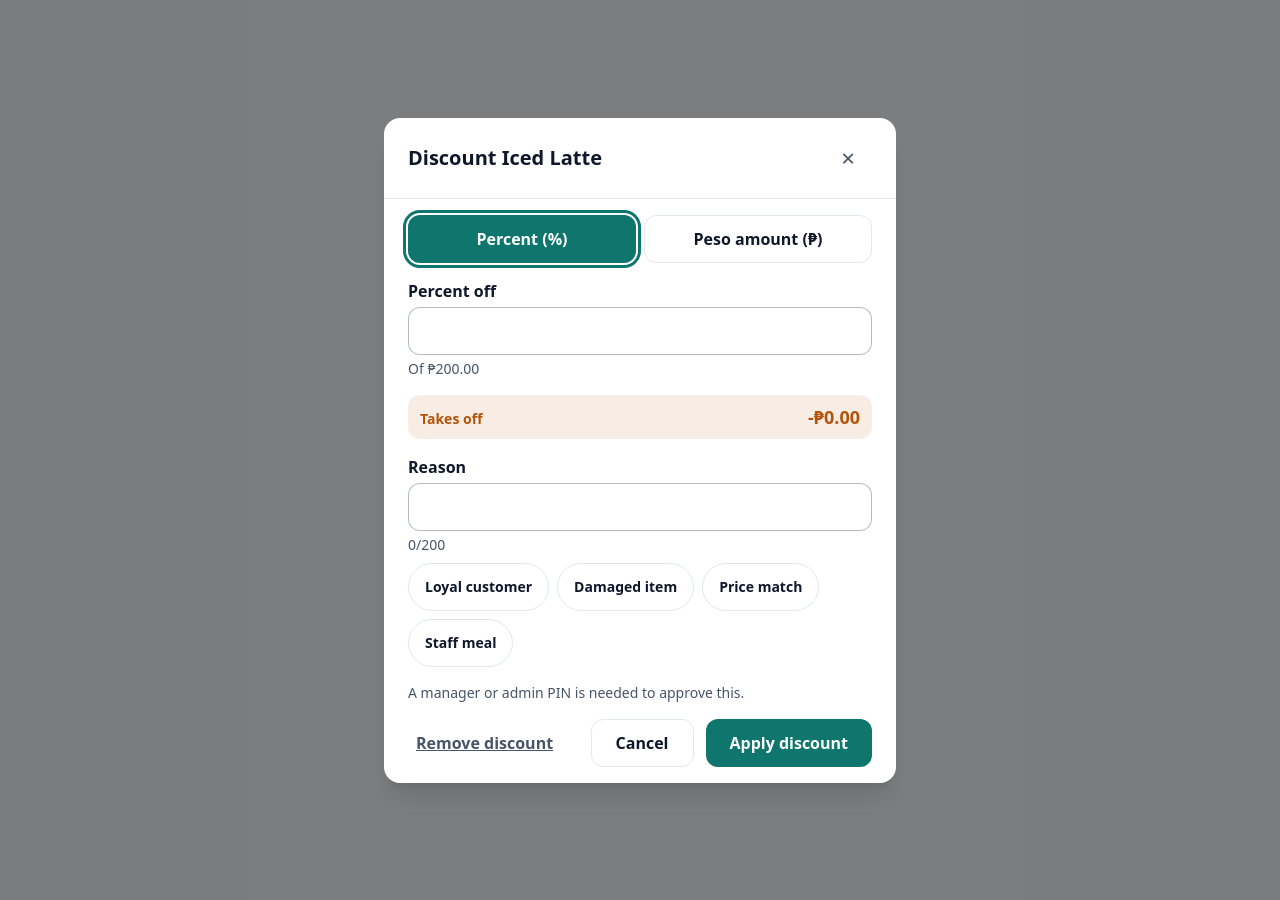
DiscountDialog › refuses a percent over 100
Type "120" into the field labelled "Percent off" at [640, 330], box [408,306,872,354]
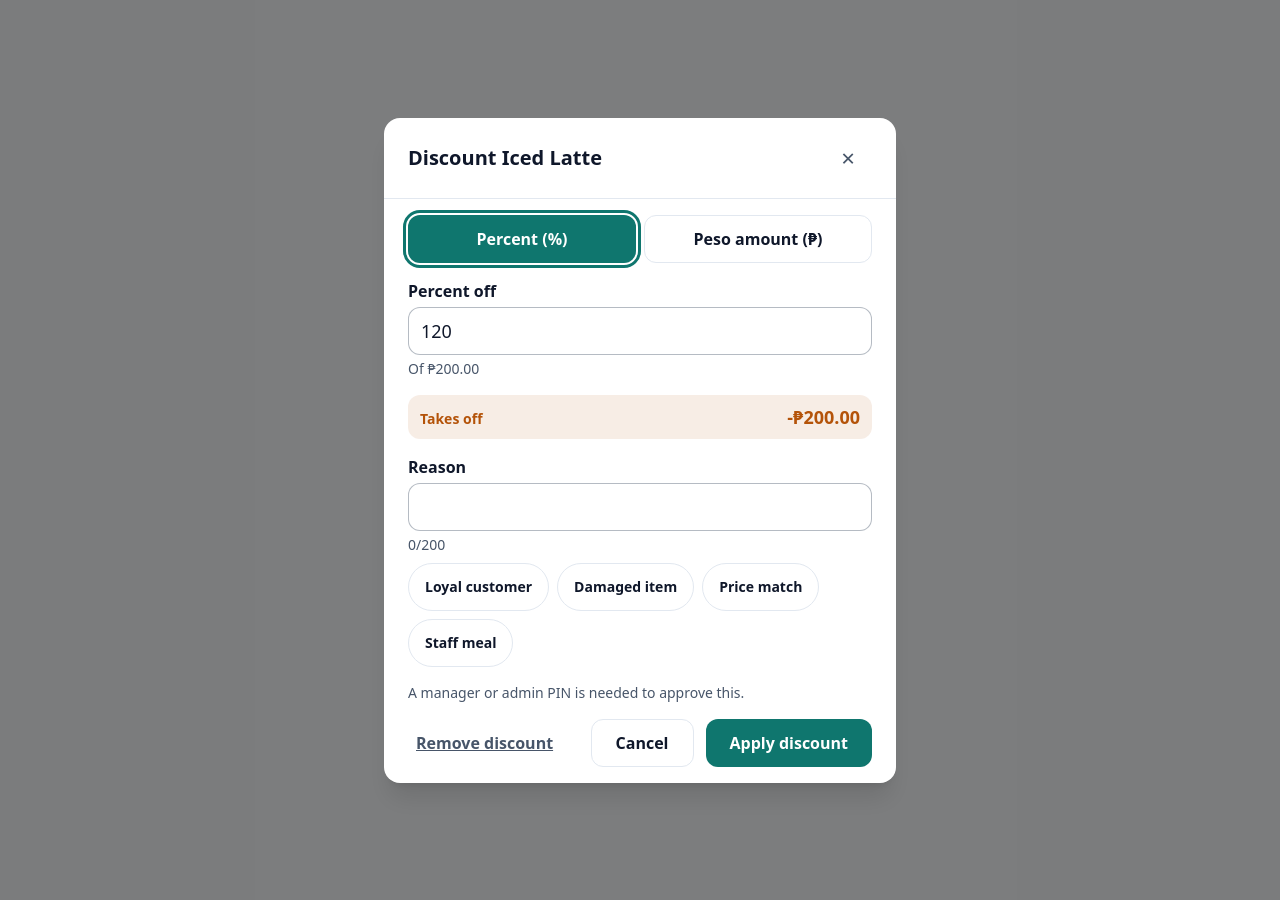
Type "r" into the field labelled "Reason" at [640, 506], box [408,482,872,530]
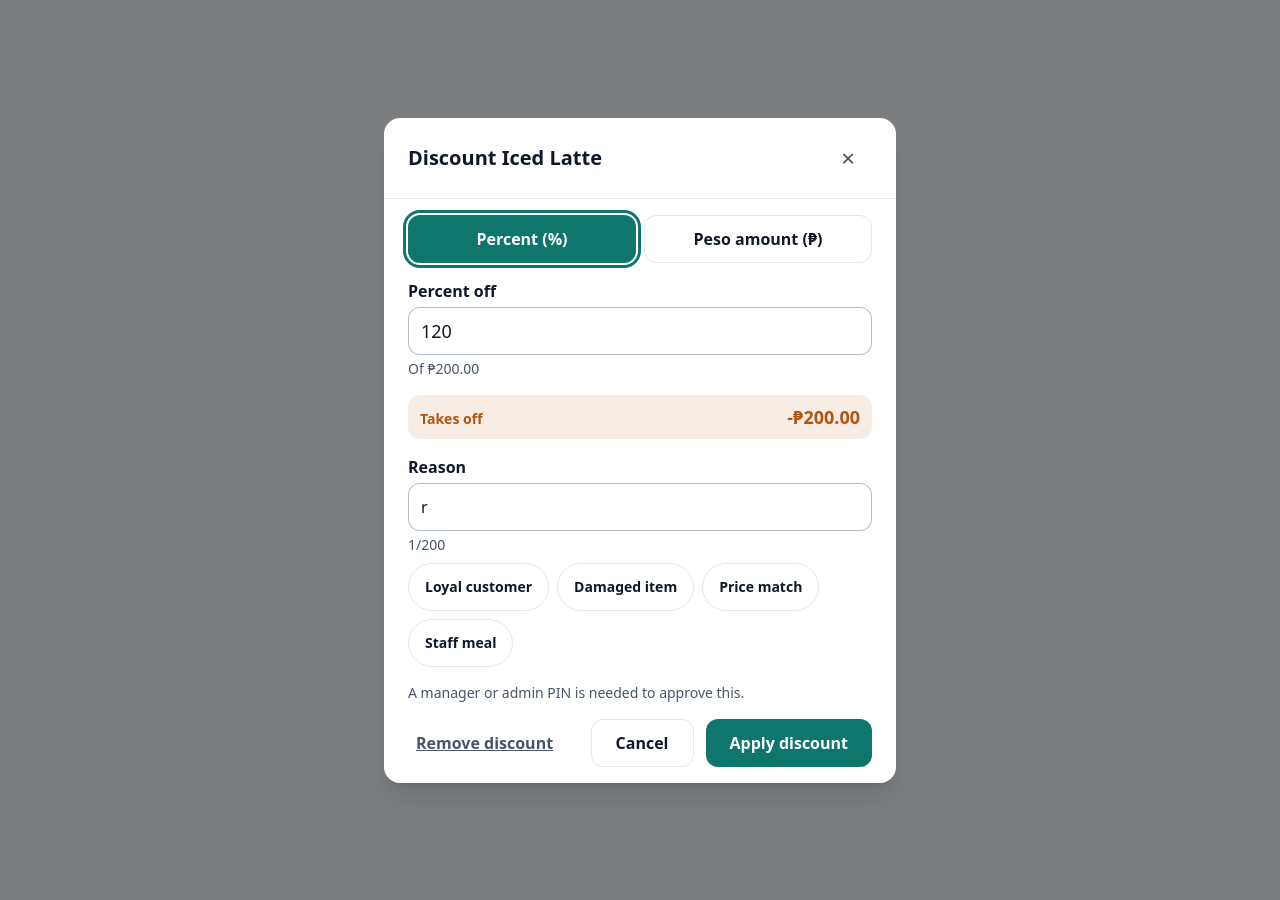
Click the button "Apply discount" at [789, 742], box [706,718,872,766]
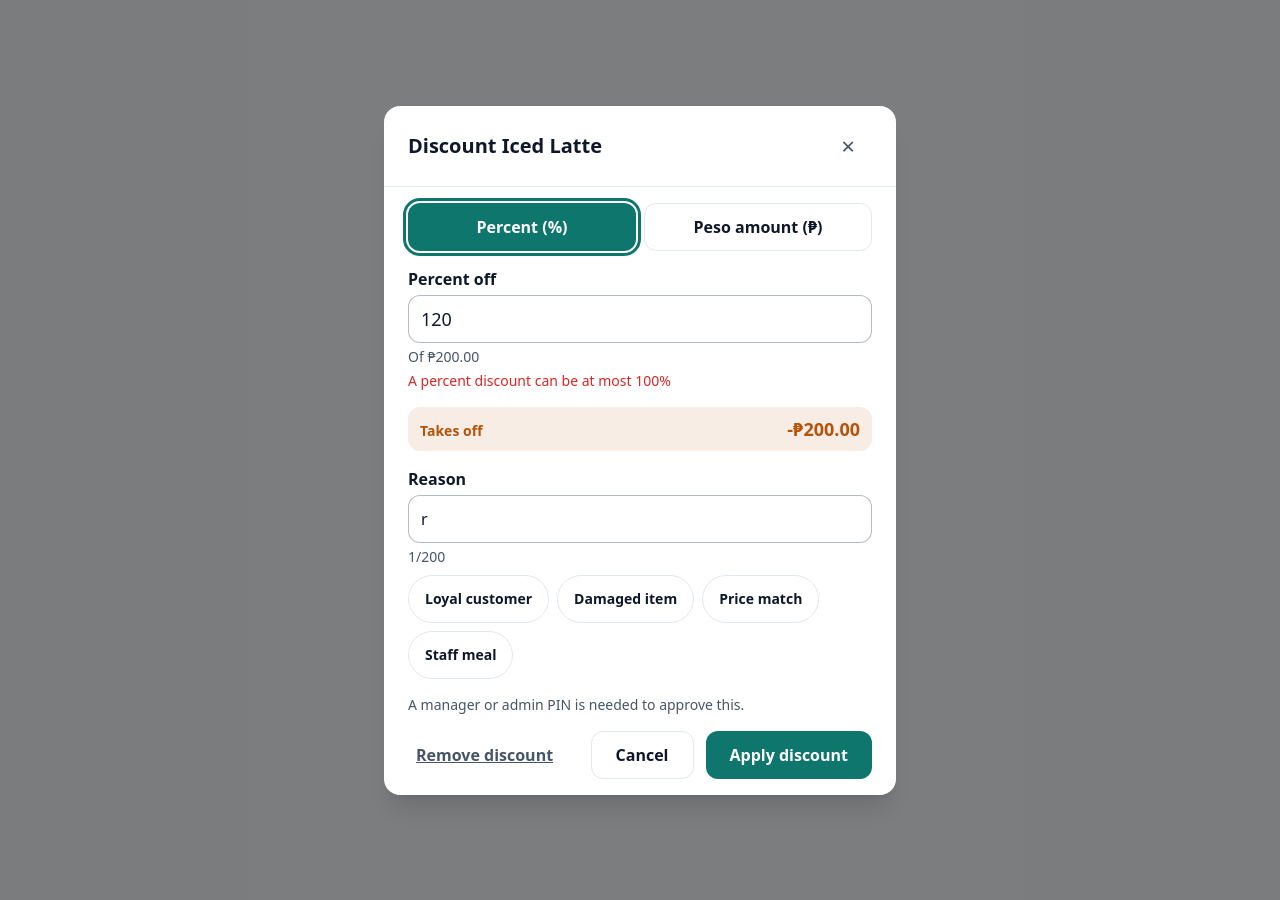
Expected: the text "A percent discount can be at most 100%" is shown, [408,370,671,390]
